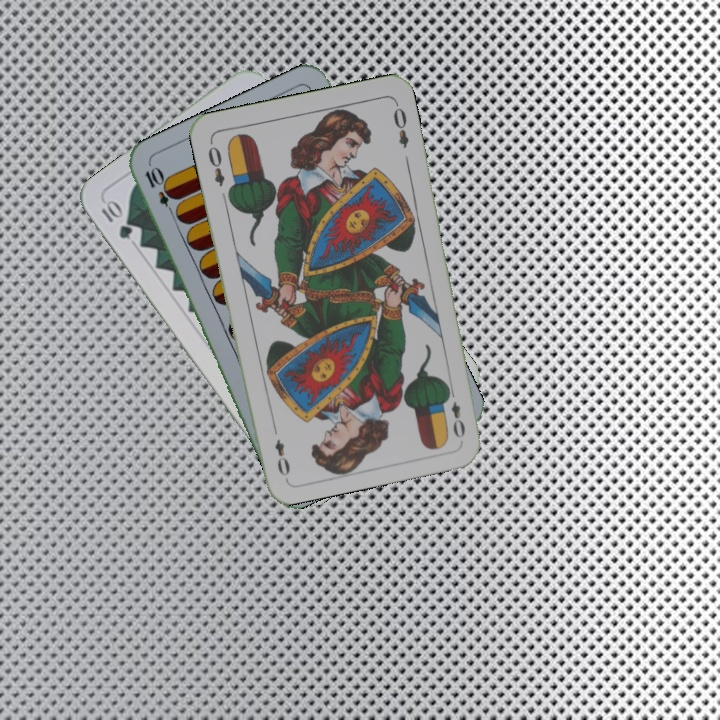E10: (140, 163, 179, 219)
EO: (442, 383, 468, 441), (204, 142, 227, 189)
G10: (97, 196, 135, 242)
